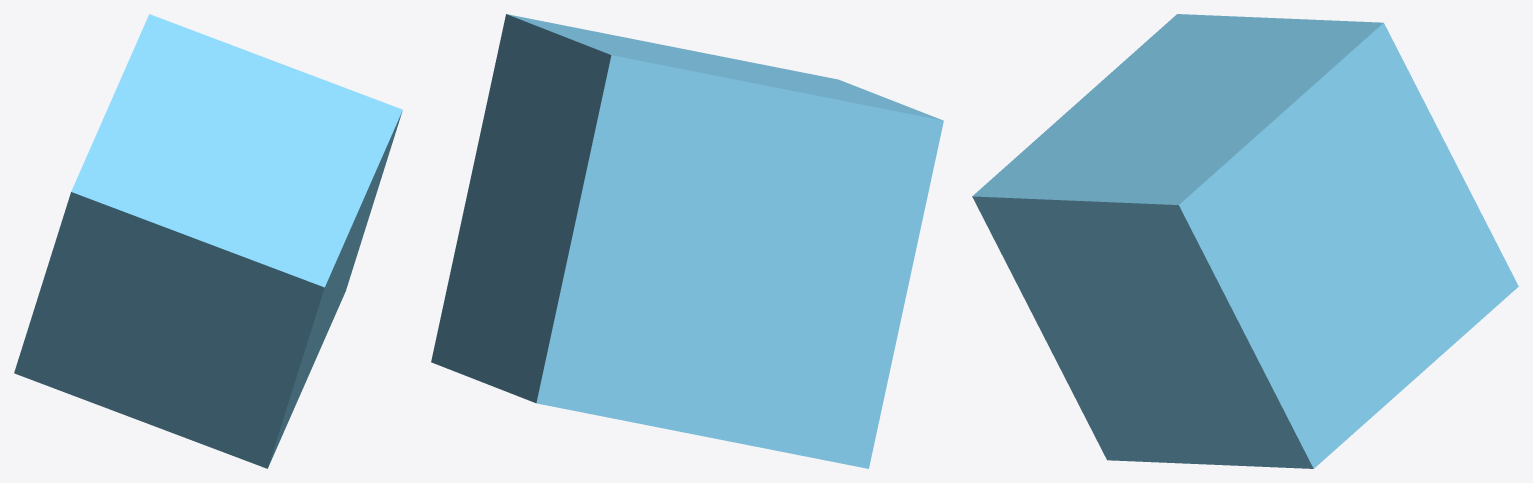
Rendered from locugobo--light.glb.
3 views of the same model, side by side, from view 1: azimuth 30°, elevation 25°; view 2: azimuth 150°, elevation 25°; view 3: azimuth 270°, elevation 25° (orthographic). The views are drawn at different scales.
Size of the model in its own units: 0.2535 by 0.2692 by 0.3053.
Materials: 1 (1 with a texture image).
